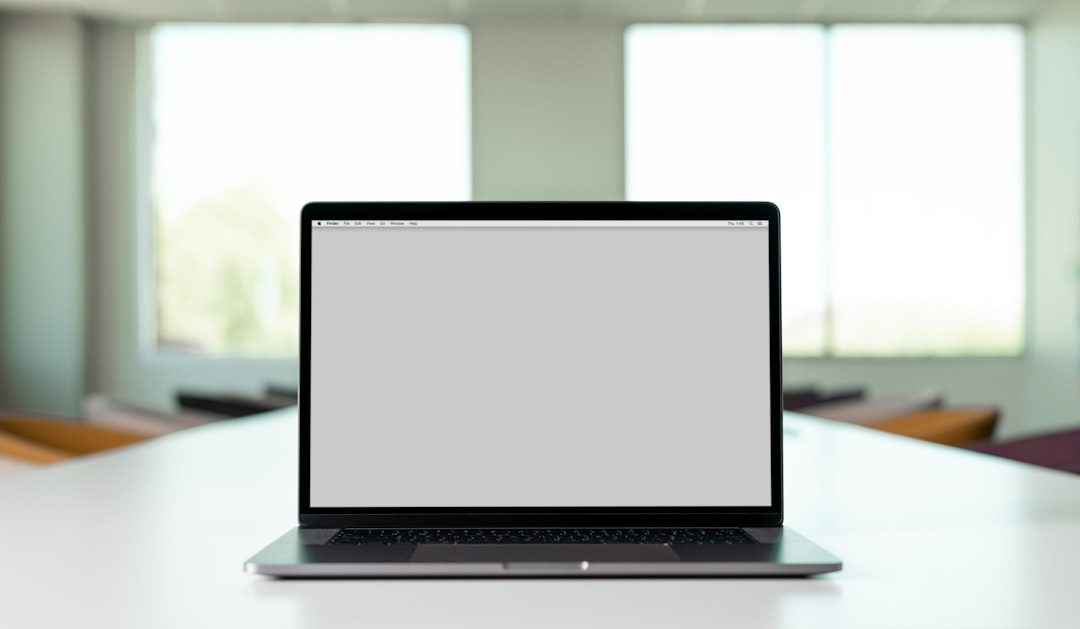laptop: (225, 158, 861, 592)
